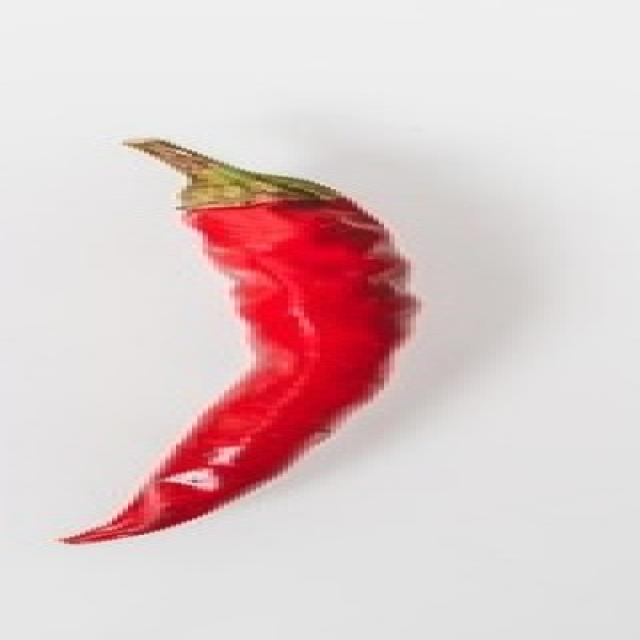red chili: (48, 137, 560, 547)
